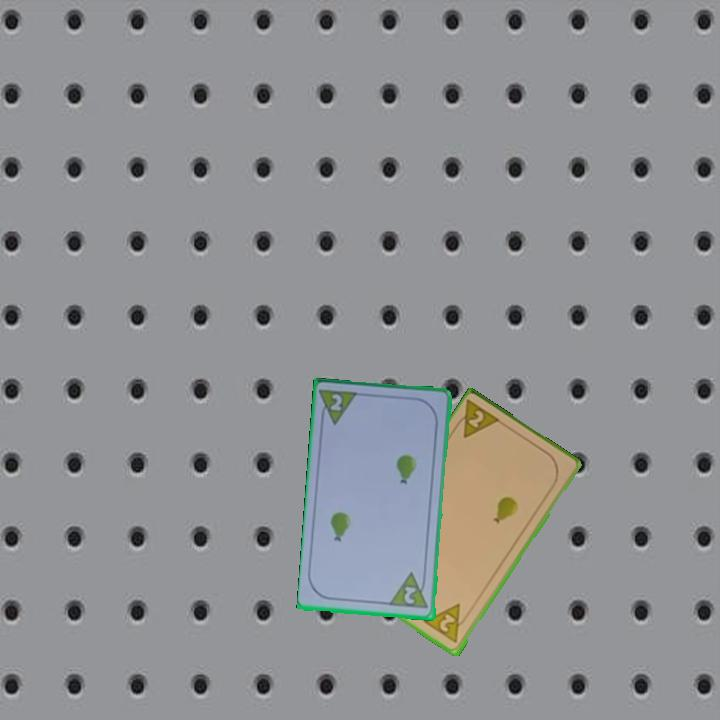2p: (449, 397, 505, 442), (422, 600, 472, 647), (317, 386, 362, 429), (388, 570, 431, 612)
